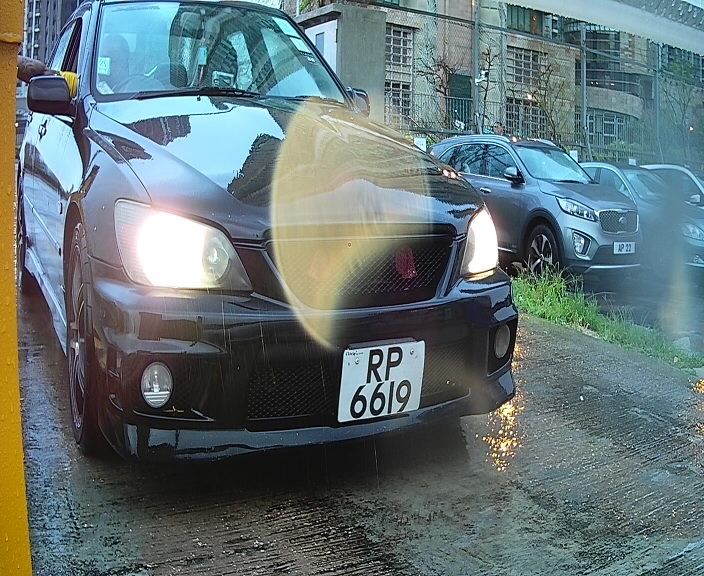Car: (22, 2, 527, 508)
License Plate: (335, 336, 430, 434)
